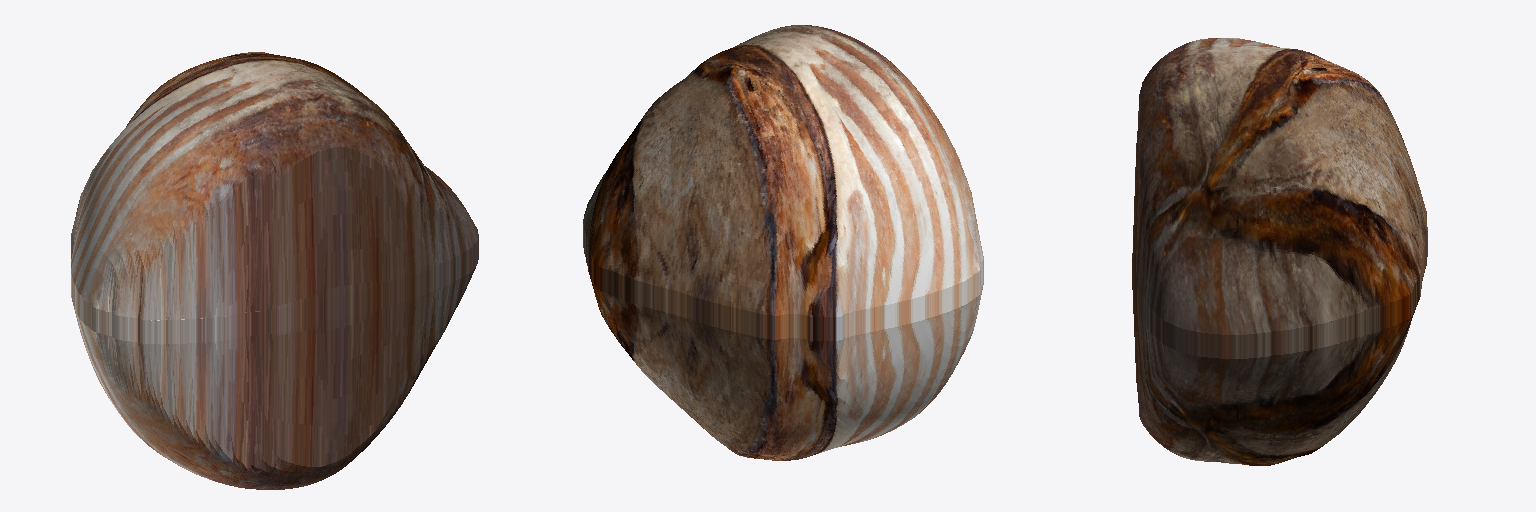
The picture shows the model from 3 angles: view 1: azimuth 30°, elevation 25°; view 2: azimuth 150°, elevation 25°; view 3: azimuth 270°, elevation 25°; orthographic projection.
Visible parts, largest first — view 1: Grid; view 2: Grid; view 3: Grid.
Boxes of the visible parts, x1,y1,x2,y2 form: Grid: [71, 52, 478, 489]; Grid: [583, 25, 983, 460]; Grid: [1132, 38, 1427, 465].
Bounding box in the file's own units: 1.95 × 2 × 1.34.
Materials: 1 (1 with a texture image).